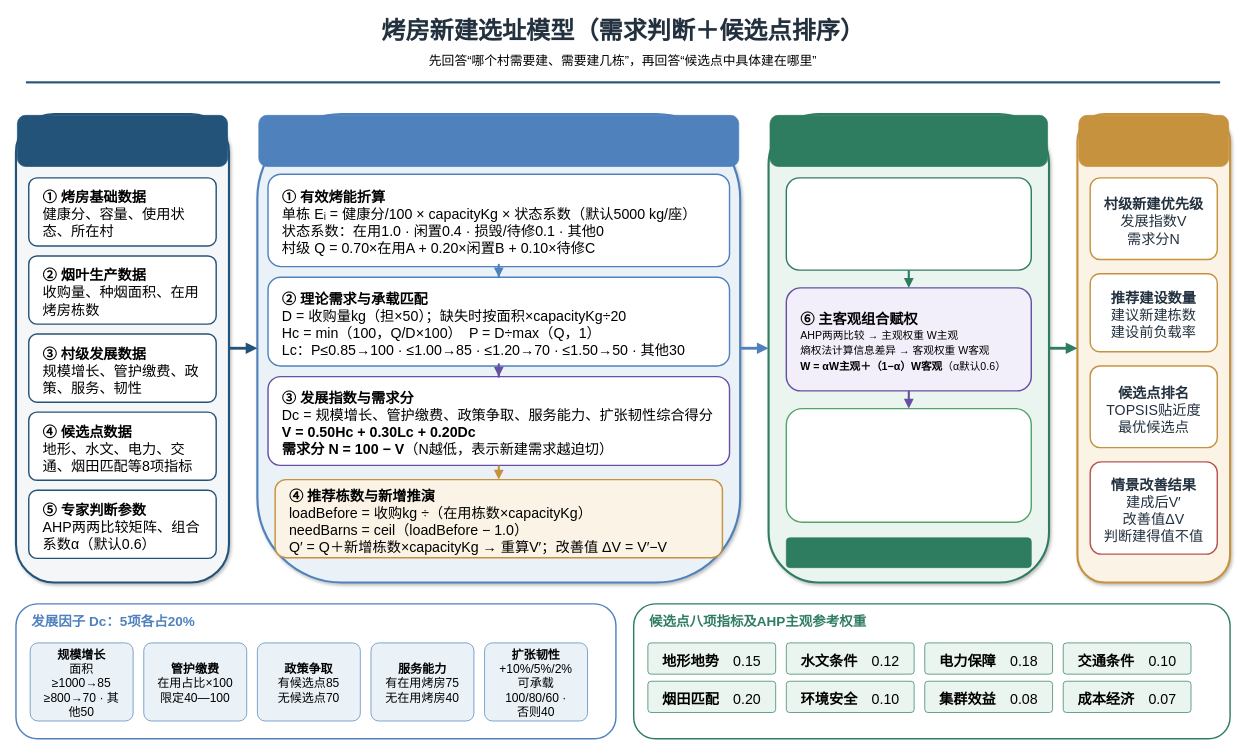
The diagram is 1247 pixels wide and 751 high, and some of its shapes have lost their labels. Each missing label, with the centre of its shape:
⑤ 八项指标量化 对每个候选点的地形、水文、电力、交通、烟田匹配、环境安全、集群效益和成本经济进行统一评分。: point 908,224
⑦ TOPSIS候选点排序 构建加权评价矩阵 → 确定正、负理想解 计算候选点与理想解的距离 贴近度 Cᵢ 越大，候选点综合适宜性越高: point 908,465
候选点综合评价 AHP＋熵权＋TOPSIS: point 908,140
决策输出 形成可执行的新建建议: point 1153,140
数据输入 基础台账＋生产与点位数据: point 122,140
村级优先序＋点位排名共同形成项目清单: point 908,552
村级新建需求测算 判断哪里需要建、需要建几栋: point 498,140
